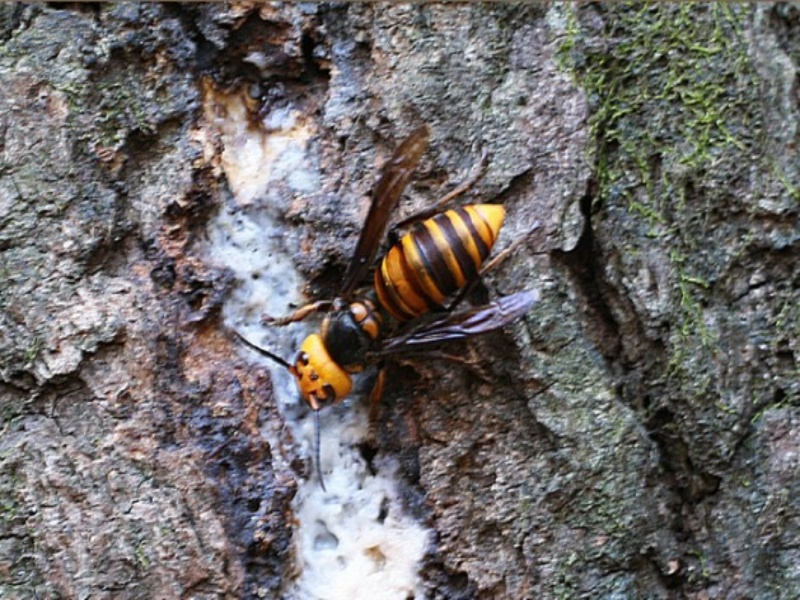asian_giant_hornet: (285, 198, 510, 418)
